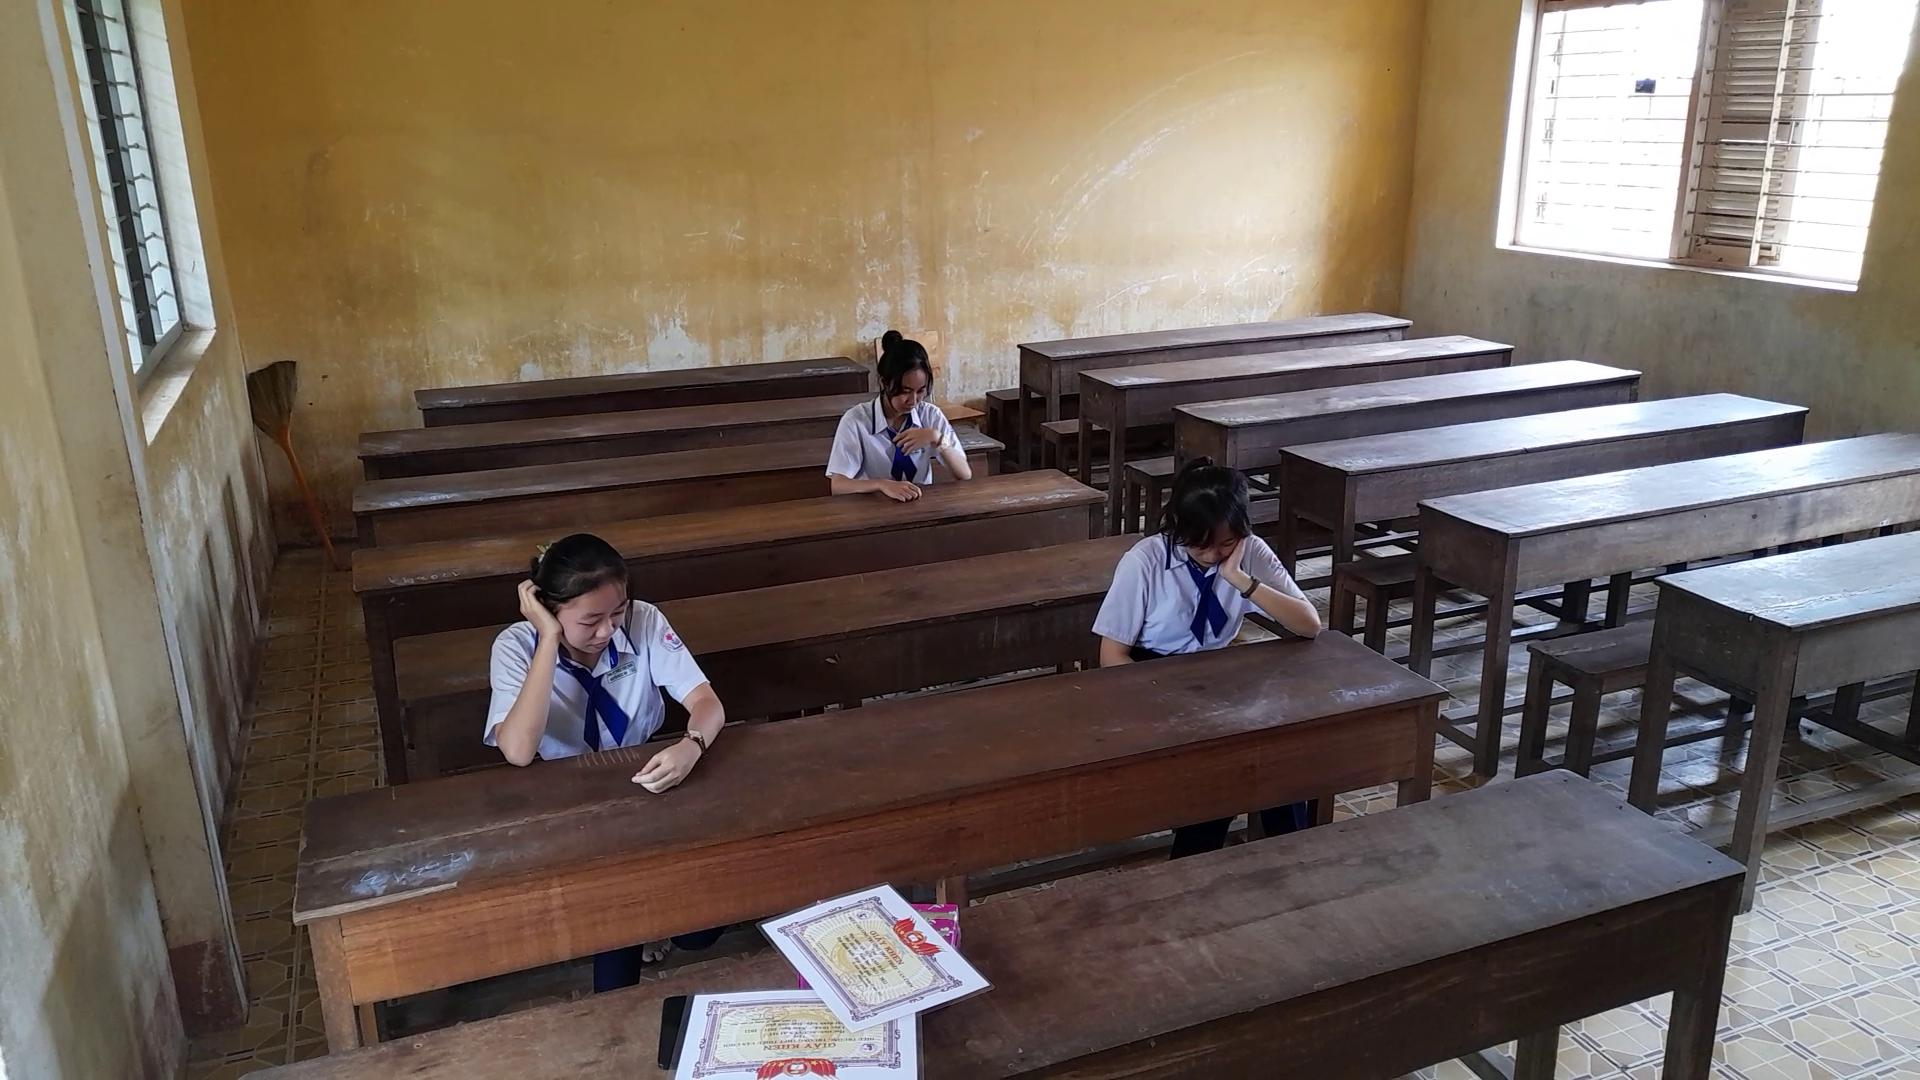Bend Over The Desk: (526, 514, 657, 658), (1149, 440, 1263, 570), (855, 314, 957, 421)
Hand Under Table: (1083, 526, 1164, 676)
Wave: (483, 568, 571, 767), (1217, 526, 1329, 646), (891, 407, 986, 502)
